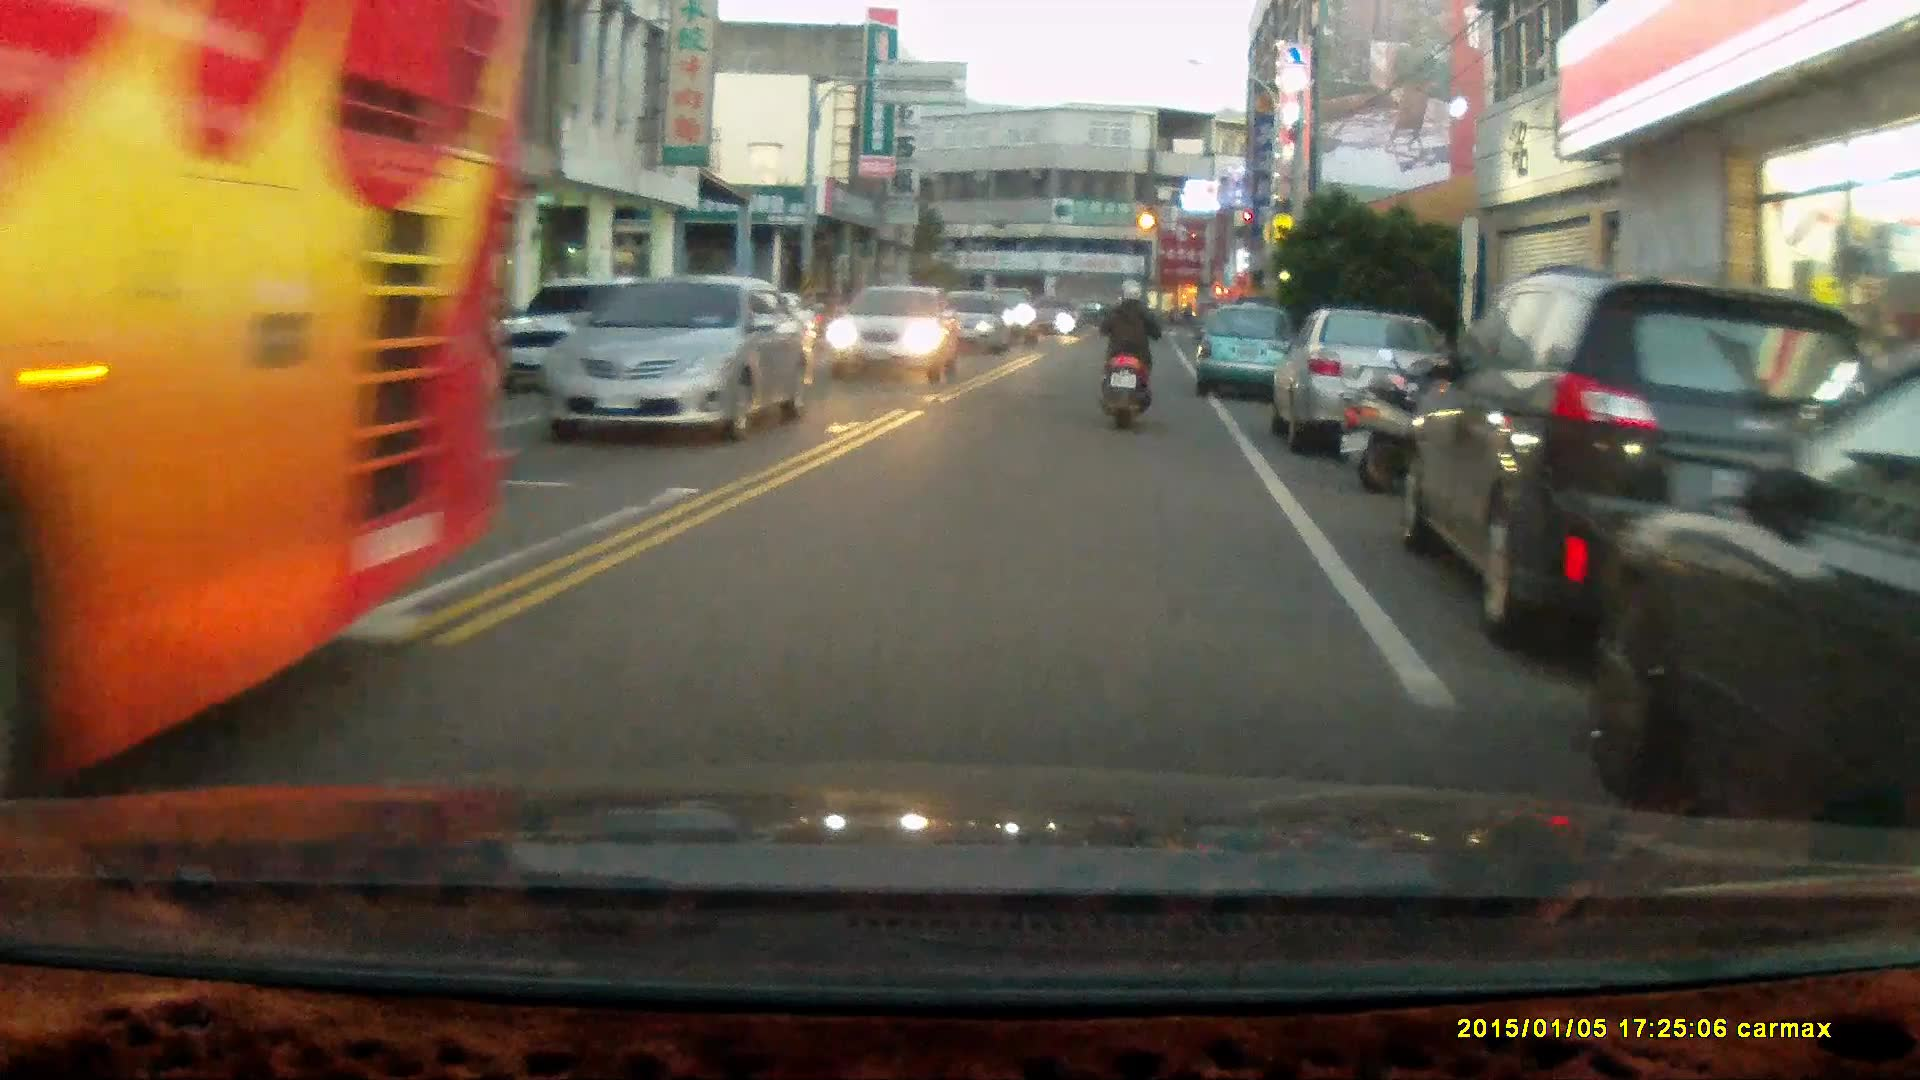rider: (1091, 275, 1158, 431)
vehicle: (1, 9, 524, 811), (1402, 262, 1914, 645), (1594, 366, 1920, 864), (537, 269, 815, 450), (1278, 304, 1453, 461), (828, 284, 962, 381), (1195, 299, 1302, 401), (931, 286, 1016, 357)
